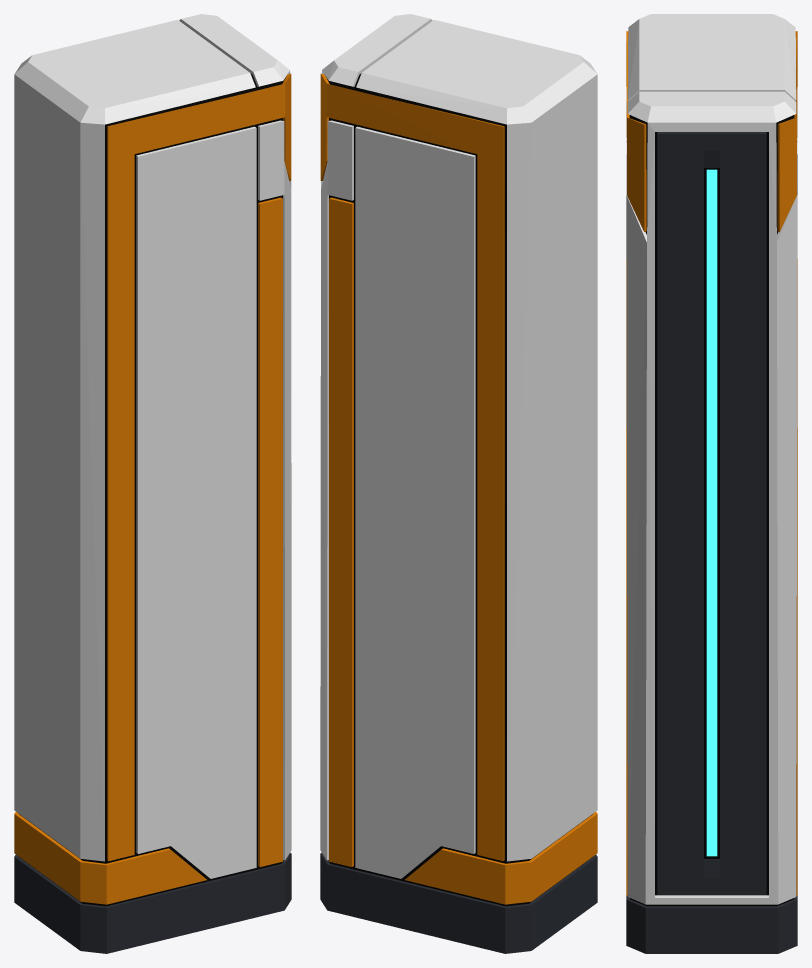
Rendered from SM_Cabinet_Long.fbx.
The picture shows the model from 3 angles, left to right: view 1: azimuth 30°, elevation 25°; view 2: azimuth 150°, elevation 25°; view 3: azimuth 270°, elevation 25°; orthographic projection.
Visible parts, largest first — view 1: SM_Cabinet_Long_Body; view 2: SM_Cabinet_Long_Body; view 3: SM_Cabinet_Long_Front, SM_Cabinet_Long_Body.
Part boxes in pixels (x1=…): SM_Cabinet_Long_Body: x1=14, y1=14, x2=291, y2=953; SM_Cabinet_Long_Body: x1=320, y1=14, x2=597, y2=953; SM_Cabinet_Long_Front: x1=657, y1=132, x2=766, y2=895; SM_Cabinet_Long_Body: x1=626, y1=14, x2=797, y2=953.
Bounding box in the file's own units: 50.1 × 190 × 34.99.
